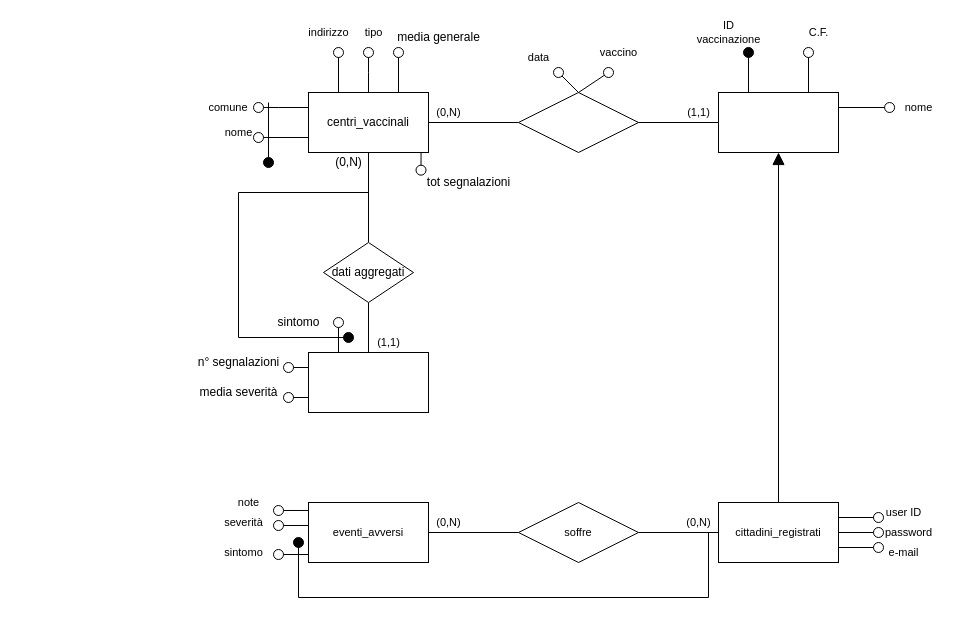
The diagram is 956 pixels wide and 627 high, and some of its shapes have lost their labels. The shapes that lost their labels are listed below. From the top down, each one's centre as x and y in pixels, then its label:
pixel 578 122: presso
pixel 778 122: vaccinati
pixel 368 382: aggregazioni_eventi
